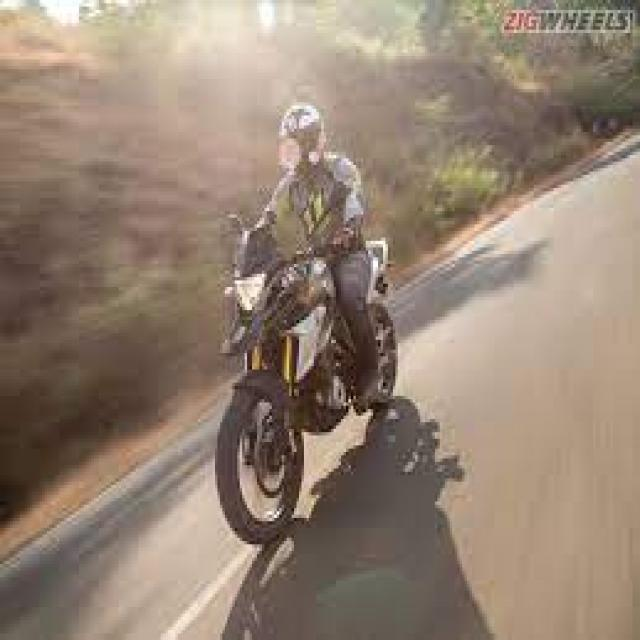Bike: (213, 212, 400, 547)
